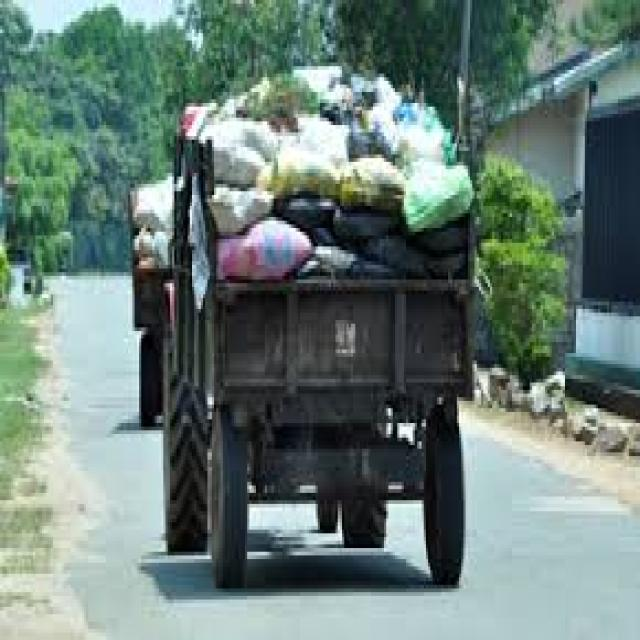tractor: (163, 81, 470, 585), (130, 177, 172, 427)
